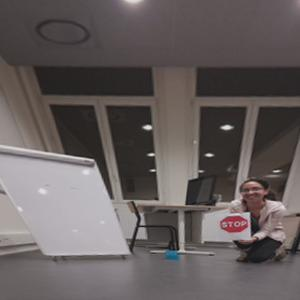stop: (220, 215, 249, 232)
